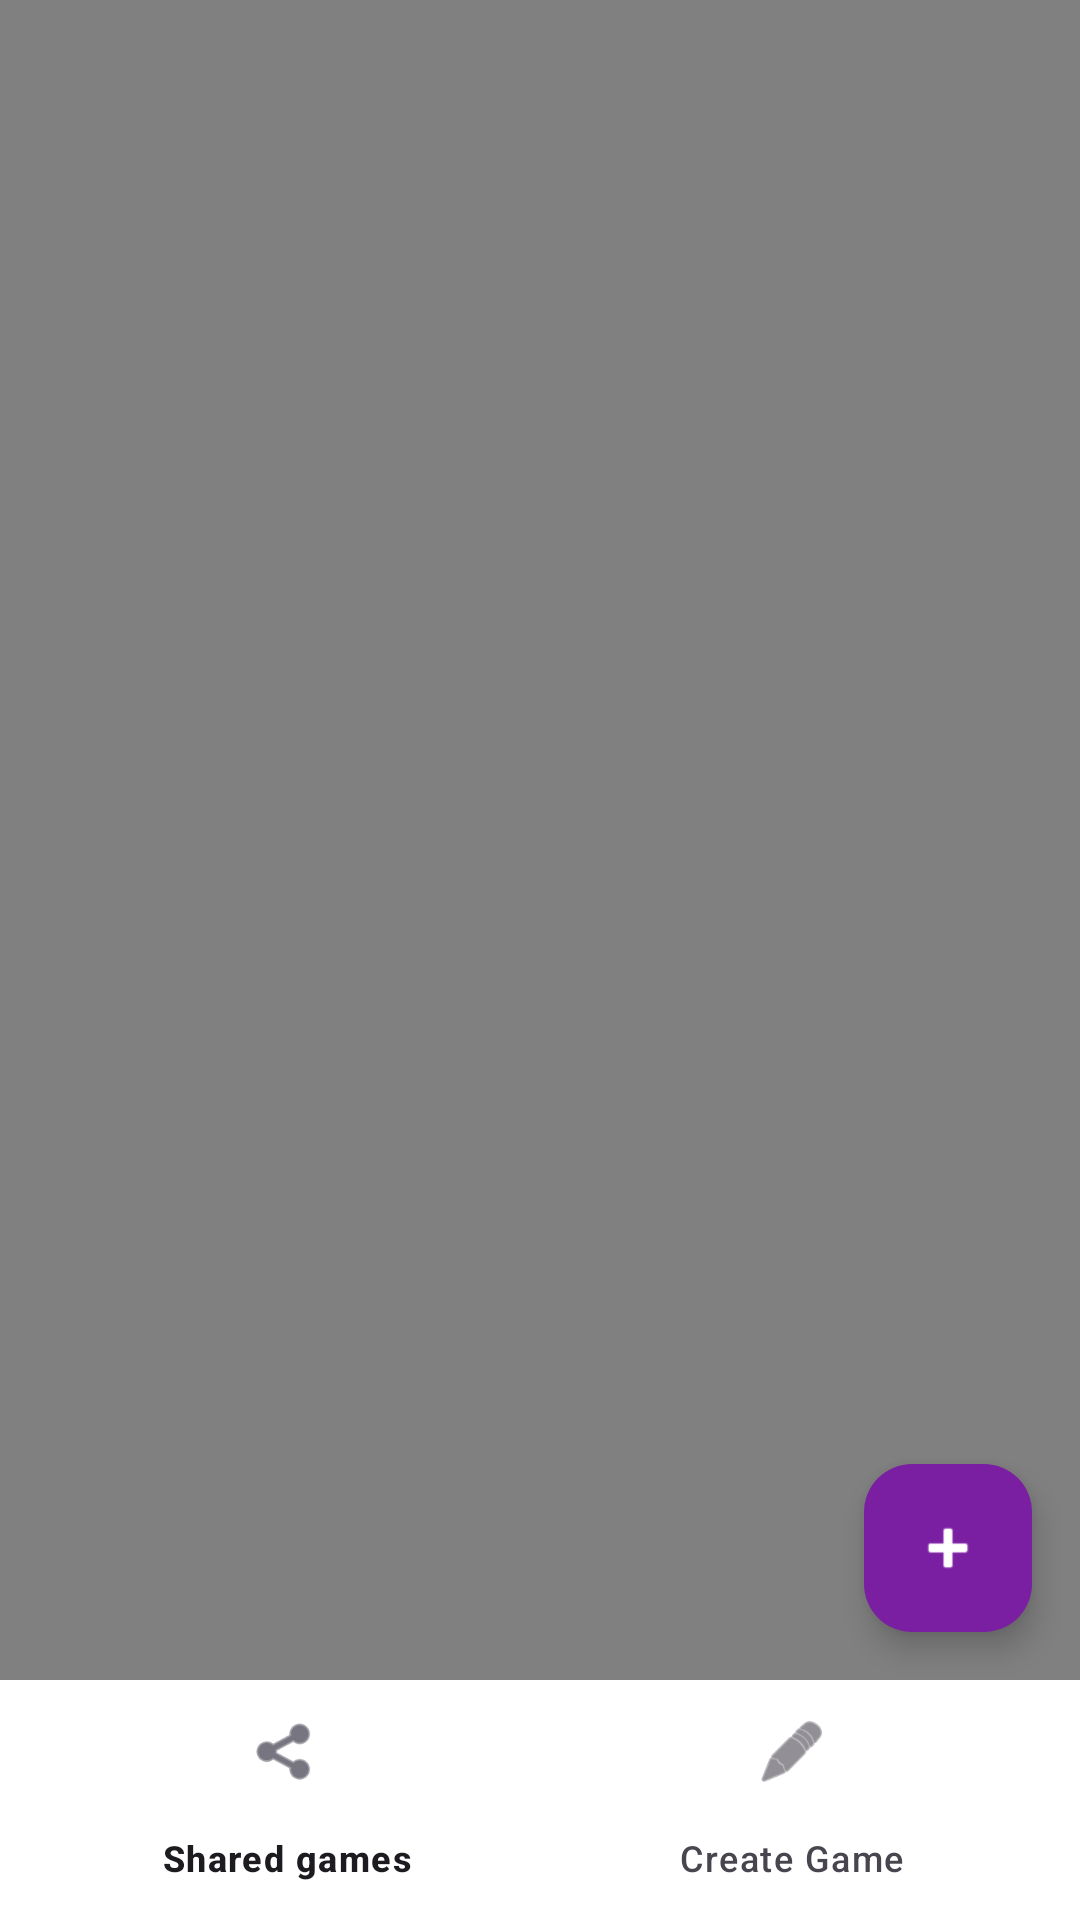

Screen size 1080px x 1920px. Icon name, then its box in pixels as [x1, y1, x2, y2]:
Add Game: [864, 1464, 1032, 1632]
